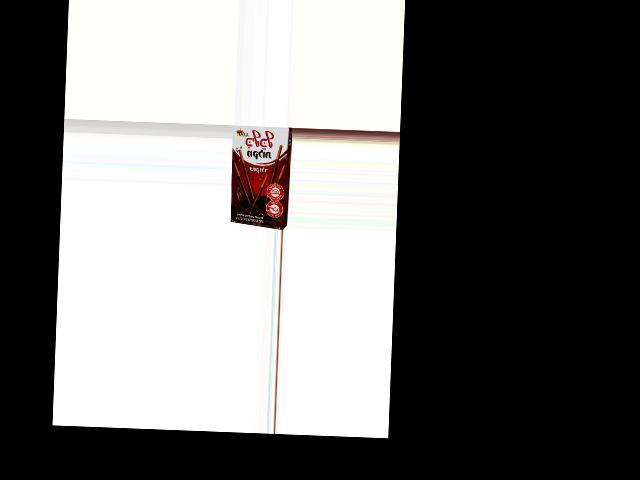chocolate: (228, 125, 291, 223)
